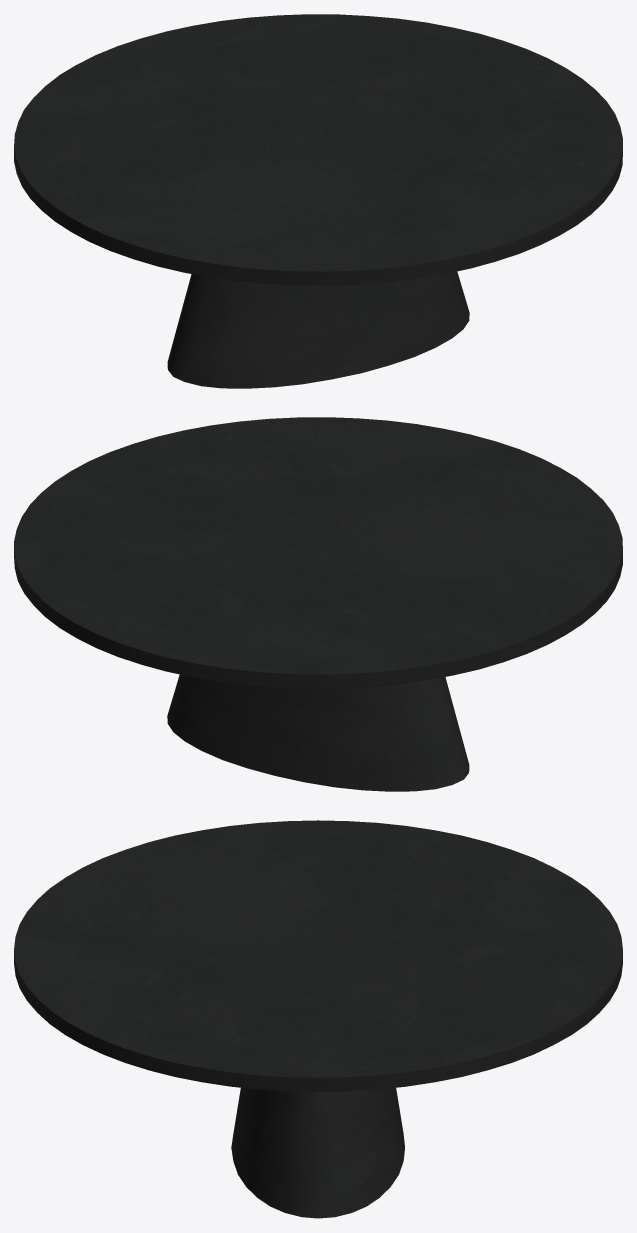
The model's file is darknight_round_standard_eqone.glb.
3 views of the same model, one above another, from view 1: azimuth 30°, elevation 25°; view 2: azimuth 150°, elevation 25°; view 3: azimuth 270°, elevation 25° (orthographic).
Visible parts, largest first — view 1: darknight_roundstandard_eqone; view 2: darknight_roundstandard_eqone; view 3: darknight_roundstandard_eqone.
Part boxes in pixels (left/top/right/bottom): darknight_roundstandard_eqone: left=14, top=14, right=622, bottom=388; darknight_roundstandard_eqone: left=14, top=417, right=622, bottom=791; darknight_roundstandard_eqone: left=14, top=820, right=622, bottom=1218.
Size of the model in its own units: 6.97 by 2.51 by 6.97.
Materials: 1 (1 with a texture image).
